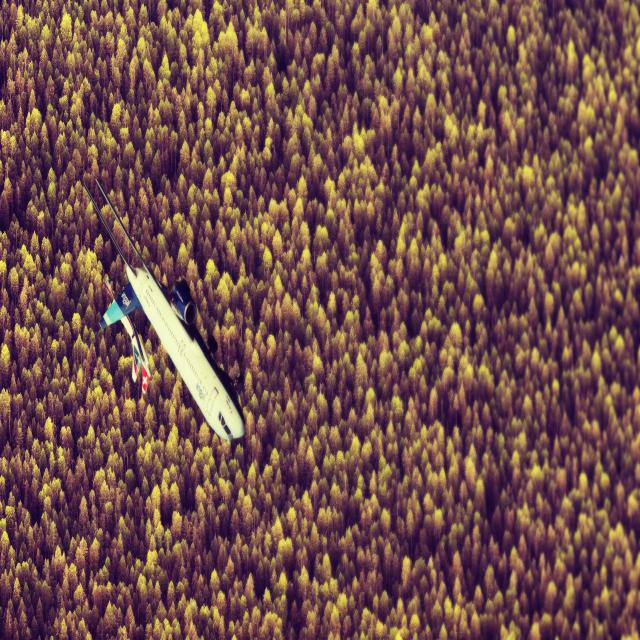airplane: (82, 177, 246, 446)
